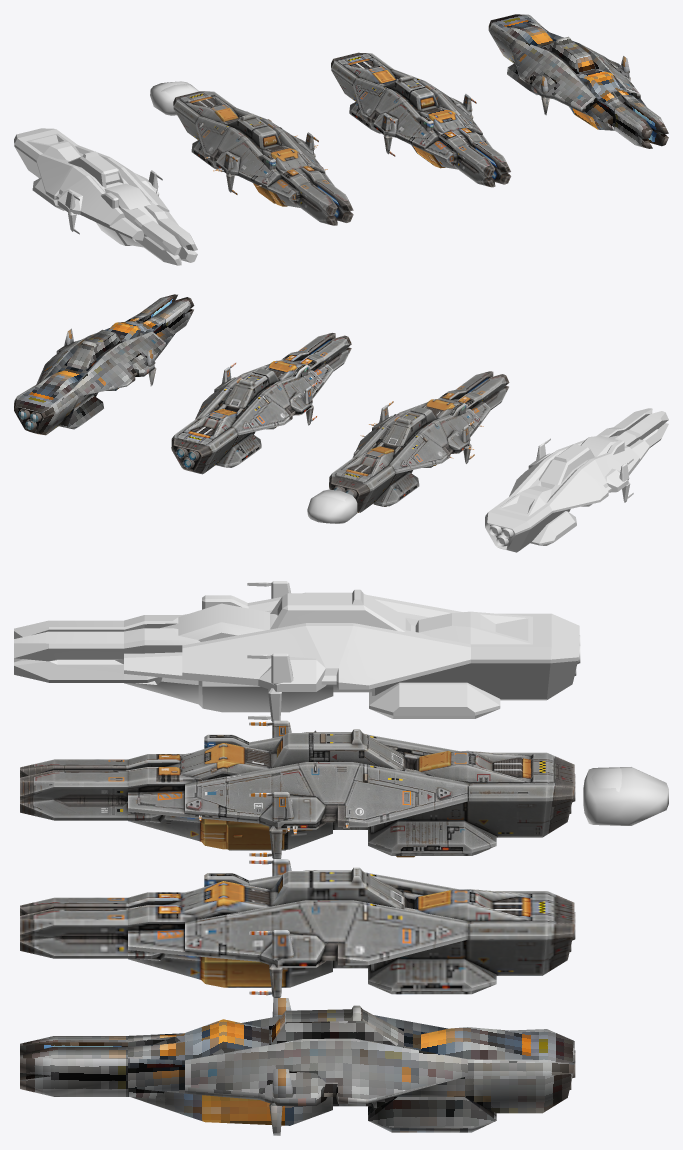
Rendered from hgn_36_ionfrigate_T5.dae.
3 renders of one model, top to bottom at view 1: azimuth 30°, elevation 25°; view 2: azimuth 150°, elevation 25°; view 3: azimuth 270°, elevation 25°, orthographic. The views are drawn at different scales.
Parts seen in each view (by area): view 1: COL[Root], MULT[Zenith]_LOD[0]_TAGS[DoScar], MULT[Zenith]_LOD[1]_TAGS[DoScar], MULT[Zenith]_LOD[2]_TAGS[DoScar], GLOW[EngGlow_stg4]_LOD[0]; view 2: COL[Root], MULT[Zenith]_LOD[1]_TAGS[DoScar], MULT[Zenith]_LOD[2]_TAGS[DoScar], MULT[Zenith]_LOD[0]_TAGS[DoScar], GLOW[EngGlow_stg4]_LOD[0]; view 3: COL[Root], MULT[Zenith]_LOD[0]_TAGS[DoScar], MULT[Zenith]_LOD[1]_TAGS[DoScar], MULT[Zenith]_LOD[2]_TAGS[DoScar], GLOW[EngGlow_stg4]_LOD[0].
Part boxes in pixels (bbox=[...]): COL[Root]: bbox=[14, 128, 197, 265]; MULT[Zenith]_LOD[0]_TAGS[DoScar]: bbox=[173, 91, 353, 225]; MULT[Zenith]_LOD[1]_TAGS[DoScar]: bbox=[331, 52, 511, 187]; MULT[Zenith]_LOD[2]_TAGS[DoScar]: bbox=[488, 14, 668, 148]; GLOW[EngGlow_stg4]_LOD[0]: bbox=[150, 81, 198, 115]; COL[Root]: bbox=[485, 408, 668, 552]; MULT[Zenith]_LOD[1]_TAGS[DoScar]: bbox=[171, 332, 351, 474]; MULT[Zenith]_LOD[2]_TAGS[DoScar]: bbox=[14, 294, 194, 435]; MULT[Zenith]_LOD[0]_TAGS[DoScar]: bbox=[329, 371, 509, 512]; GLOW[EngGlow_stg4]_LOD[0]: bbox=[307, 489, 357, 523]; COL[Root]: bbox=[14, 581, 580, 721]; MULT[Zenith]_LOD[0]_TAGS[DoScar]: bbox=[20, 720, 575, 859]; MULT[Zenith]_LOD[1]_TAGS[DoScar]: bbox=[20, 859, 575, 997]; MULT[Zenith]_LOD[2]_TAGS[DoScar]: bbox=[20, 998, 575, 1135]; GLOW[EngGlow_stg4]_LOD[0]: bbox=[583, 767, 668, 825].
Bounding box in the file's own units: 395 × 42.5 × 223.
